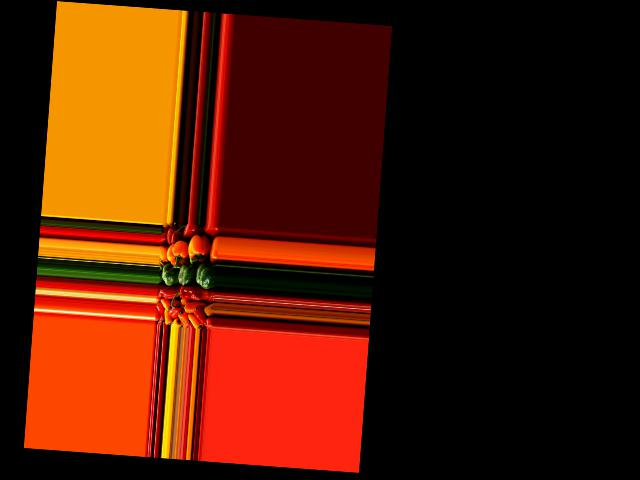bell_pepper: (192, 306, 209, 326)
